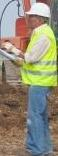boots: (0, 149, 8, 156), (0, 150, 8, 156)
gloves: (7, 45, 21, 54), (12, 56, 24, 66)
hard-hat: (0, 0, 13, 16)
vest: (0, 25, 19, 89)
